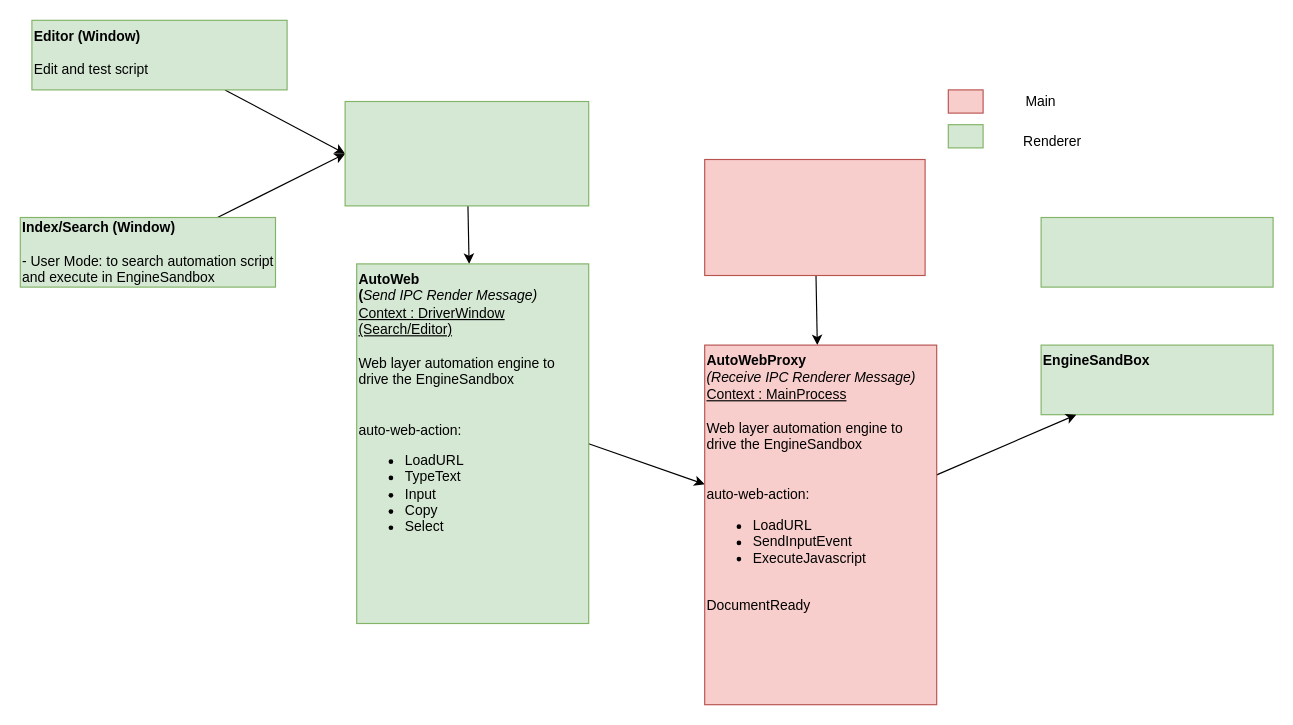
Some shapes in this 1293 by 725 pixel diagram are drawn without their labels. The centre of each missing label's shape, as x and y in pixels:
Engine Context : DriverWindow (Search/Editor): point 466,153
Main Process: point 814,217
Preload Package: point 1156,251
